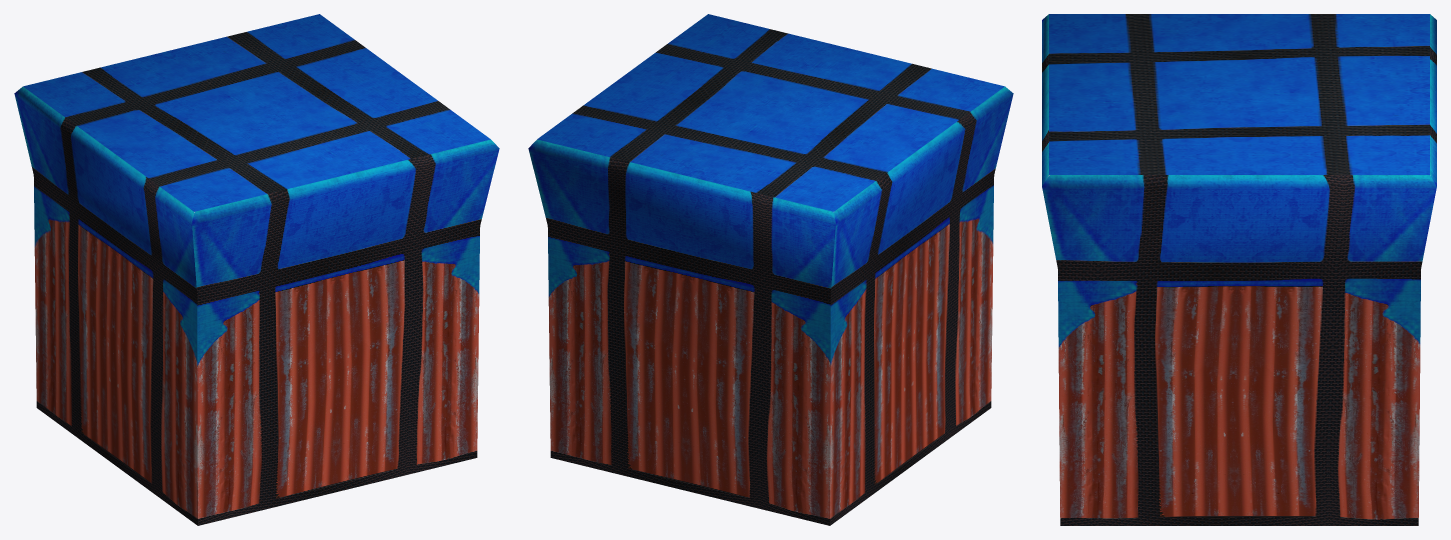
The model's file is pubg_box.glb.
The picture shows the model from 3 angles, left to right: view 1: azimuth 30°, elevation 25°; view 2: azimuth 150°, elevation 25°; view 3: azimuth 270°, elevation 25°; orthographic projection. The views are drawn at different scales.
Parts seen in each view (by area): view 1: Box001; view 2: Box001; view 3: Box001.
Part boxes in pixels (left/top/right/bottom): Box001: left=14, top=14, right=499, bottom=525; Box001: left=528, top=14, right=1013, bottom=525; Box001: left=1042, top=14, right=1436, bottom=525.
Bounding box in the file's own units: 50 × 49.69 × 50.
1 material, 1 textured.
